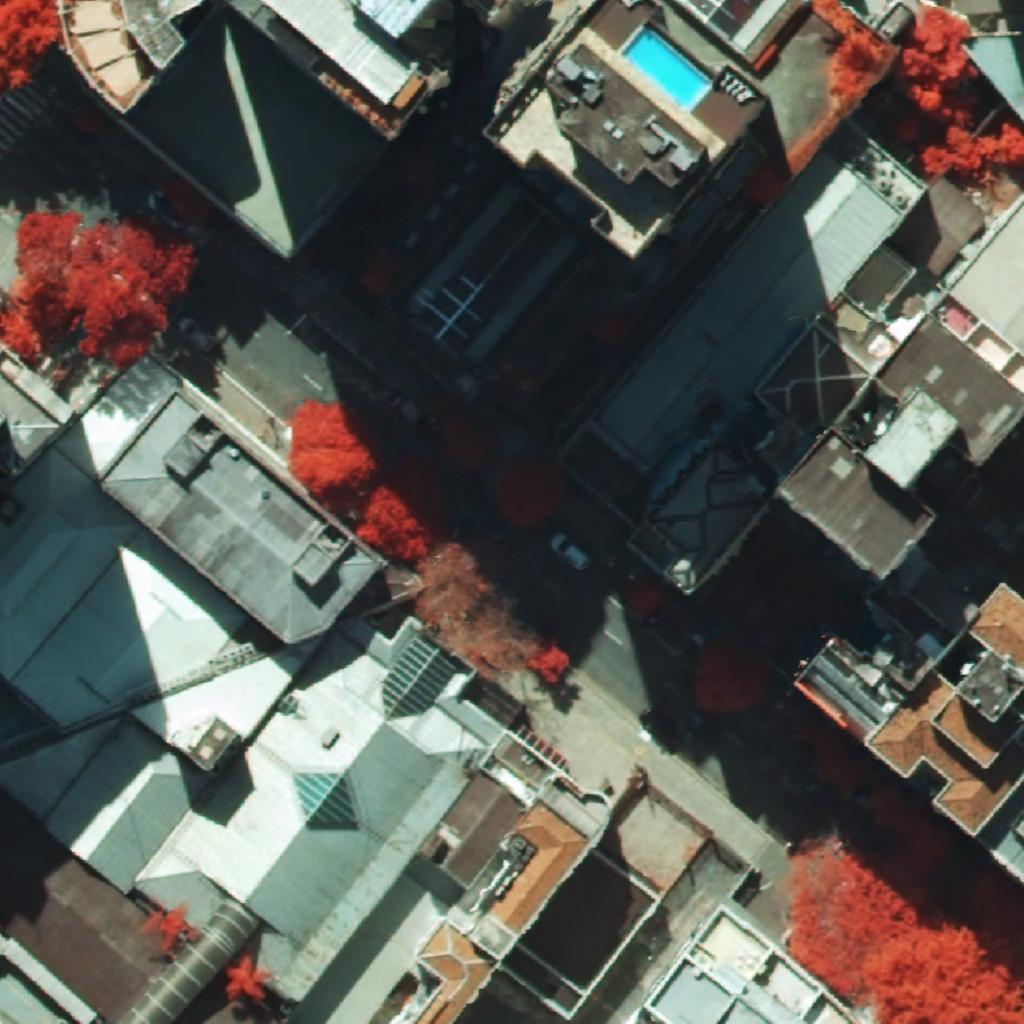pool: (622, 27, 710, 110)
